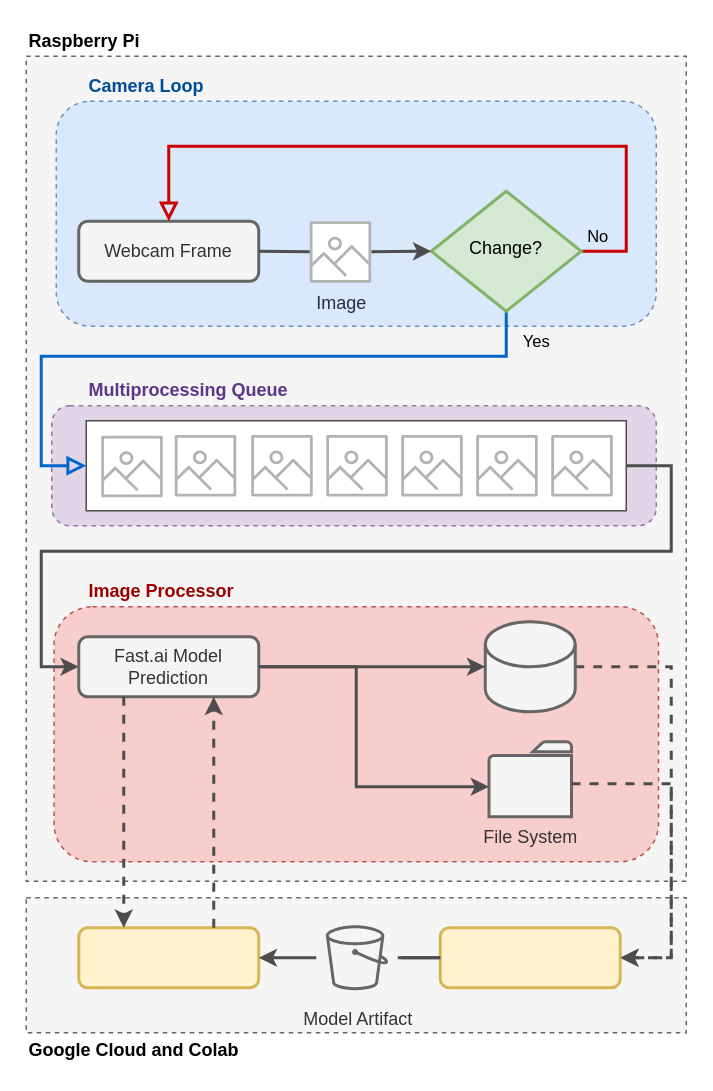
Some shapes in this 713 by 1091 pixel diagram are drawn without their labels. Here are the shapes that lost their labels. From the top down, the centre of each, then its label:
At (529,666): "DB".
At (168,957): "GCF REST API".
At (529,957): "Colab Training Notebook".
